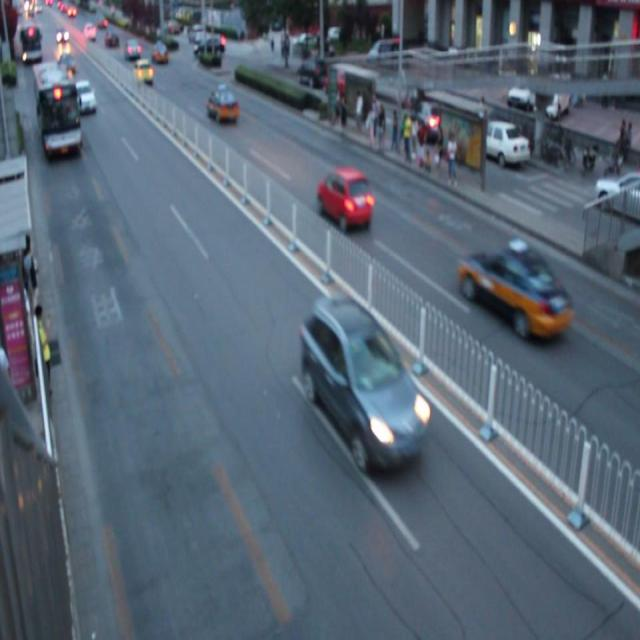car: (298, 292, 427, 474), (459, 238, 573, 340), (316, 167, 371, 231), (206, 85, 239, 125), (73, 79, 96, 115), (132, 59, 155, 87)
van: (32, 62, 83, 153)
